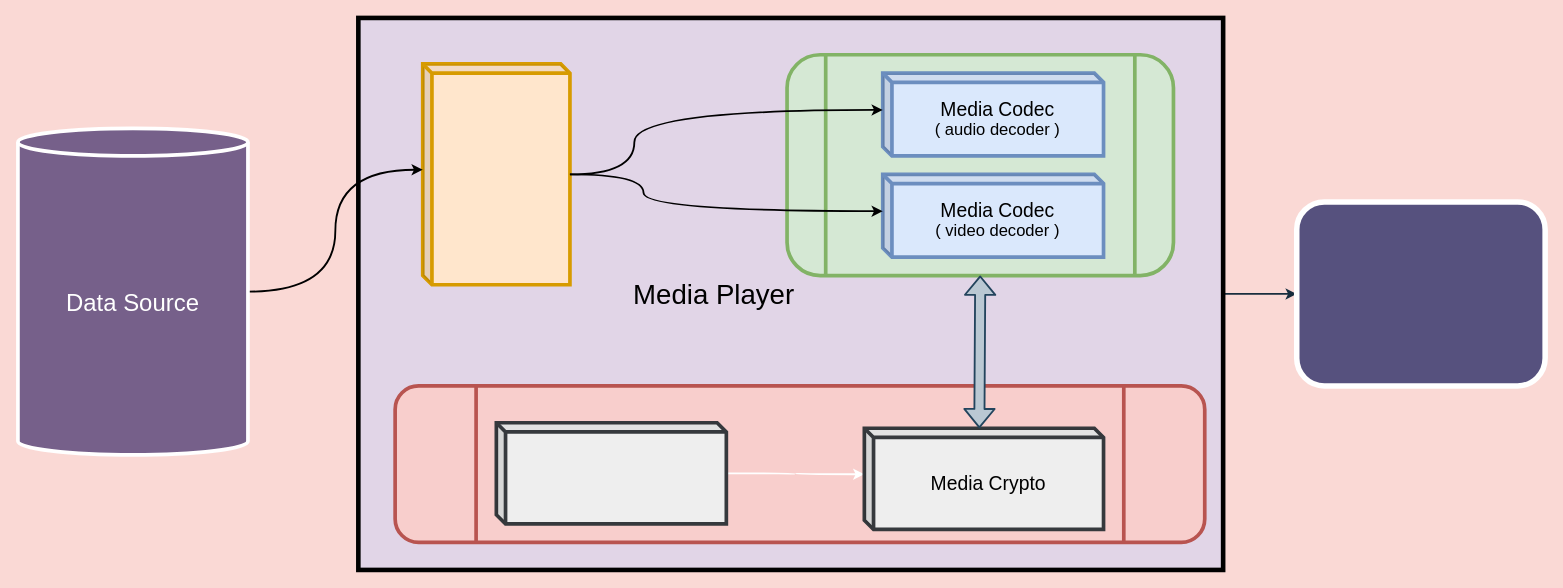
The diagram is 1563 pixels wide and 588 high, and some of its shapes have lost their labels. Here are the shapes that lost their labels. From the top down, the centre of each, then its label:
At (495,174): "Media Extractor".
At (1420,293): "Surface".
At (611,472): "Media DRM".
